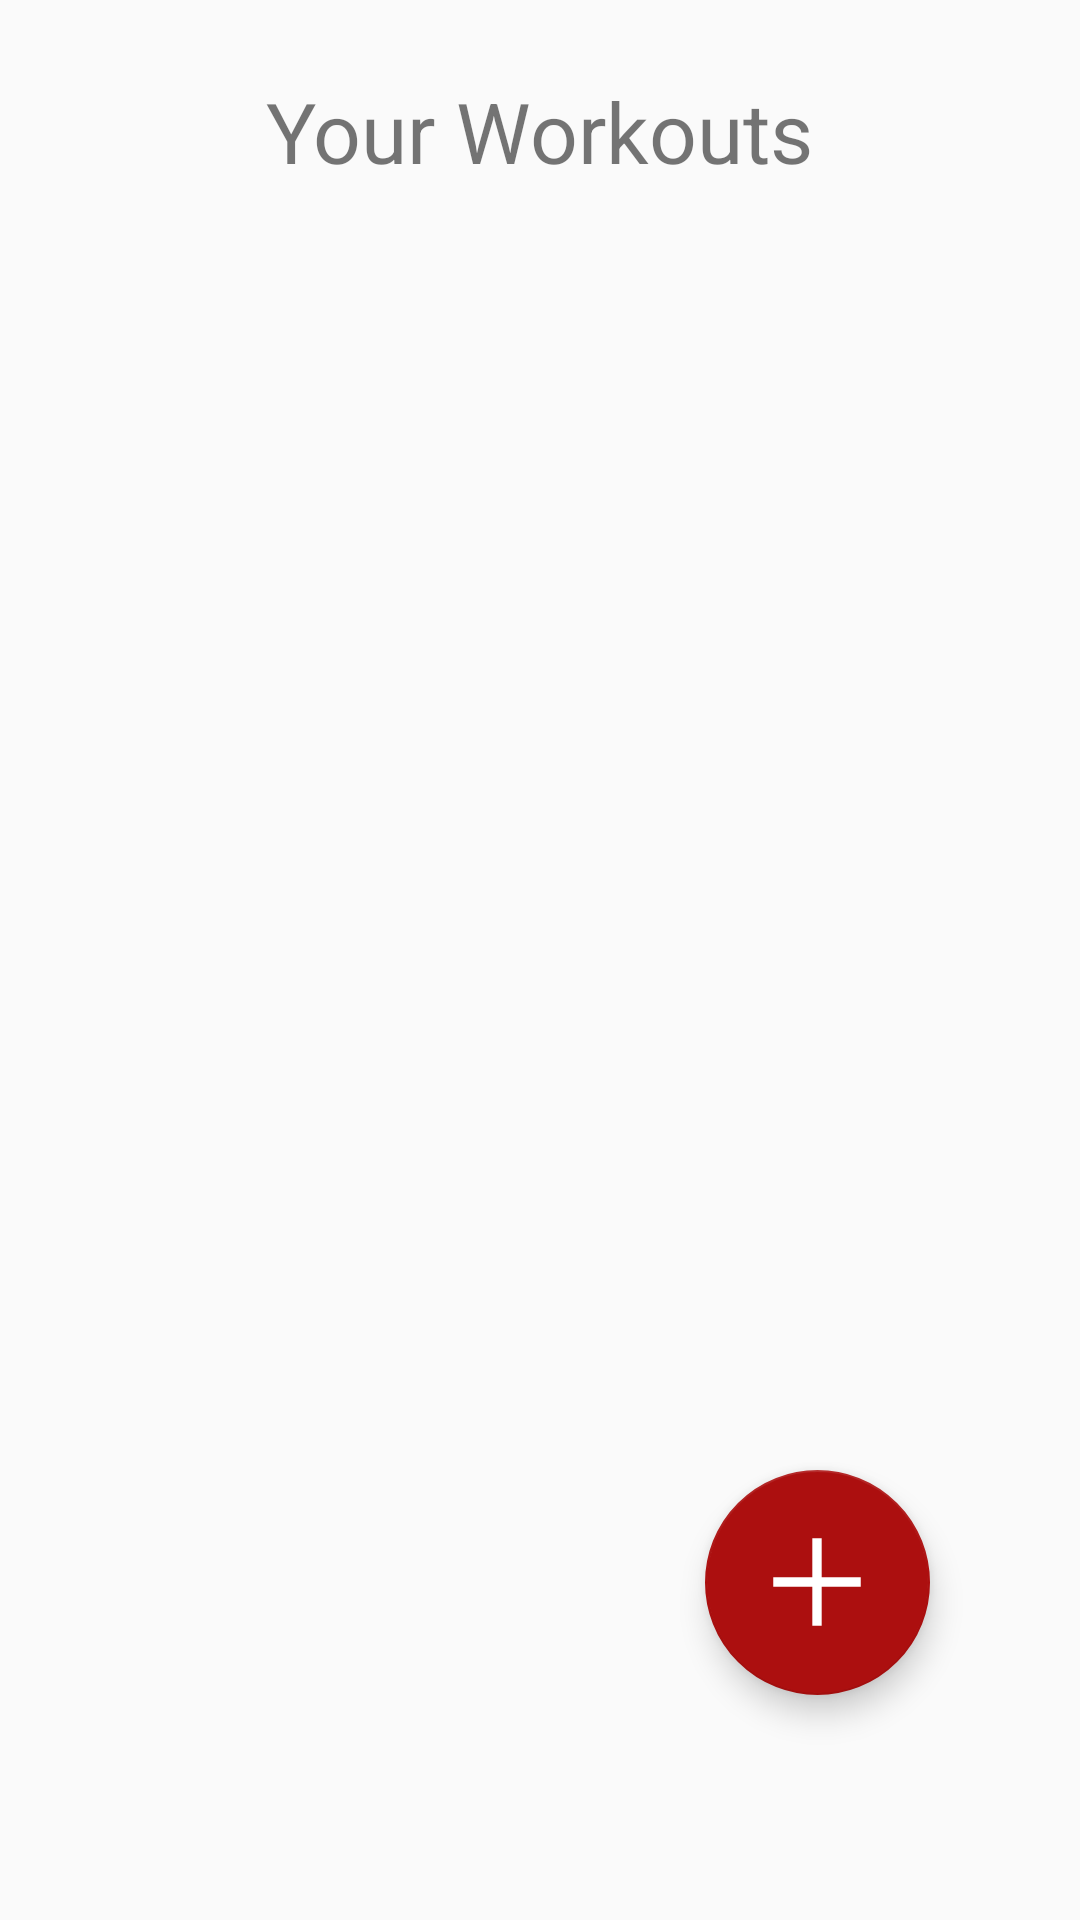

Locate icon controls on the screen. Image size 1080×1920, boxes as detection(x1, y1, x2, y2).
Create new exercise: detection(705, 1470, 930, 1695)
